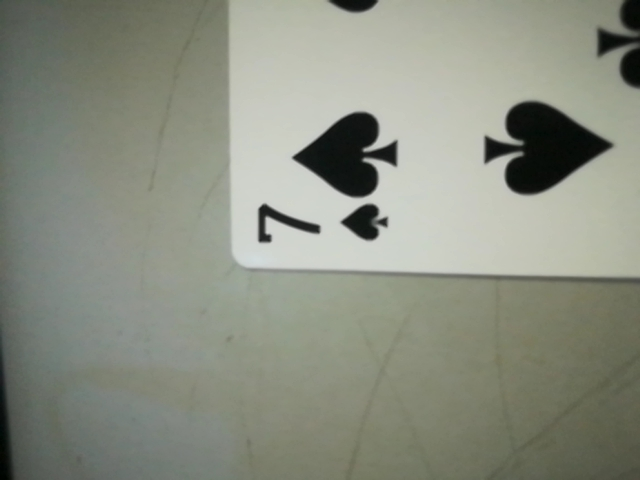ht 7: (242, 187, 396, 263)
